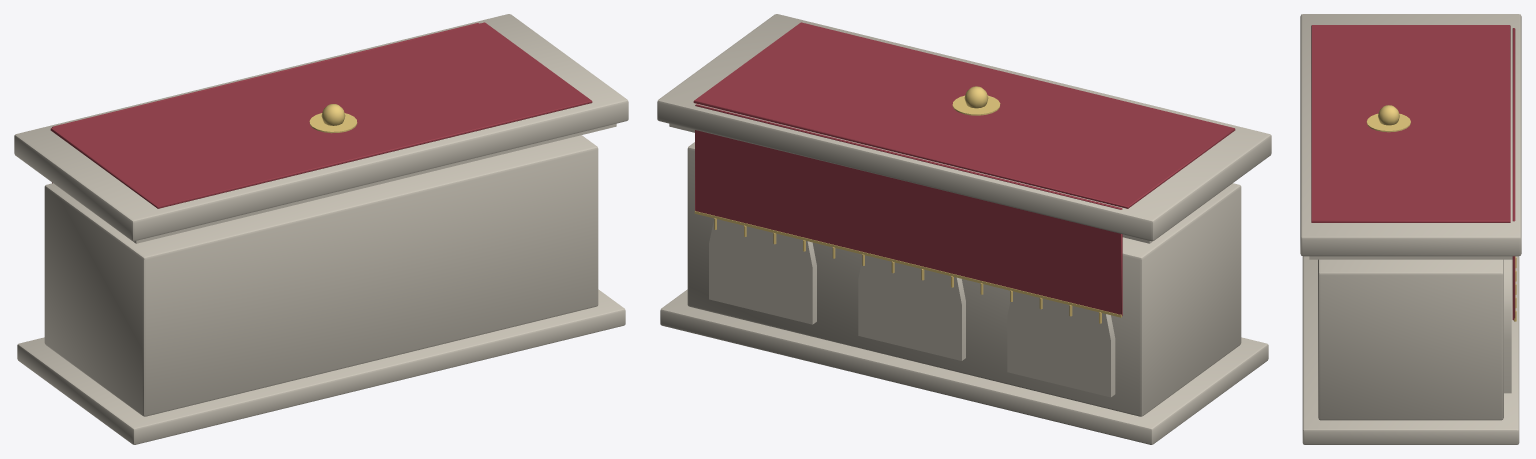
Rendered from chi_altare.fbx.
The picture shows the model from 3 angles, left to right: view 1: azimuth 30°, elevation 25°; view 2: azimuth 150°, elevation 25°; view 3: azimuth 270°, elevation 25°; orthographic projection. The views are drawn at different scales.
Parts seen in each view (by area): view 1: chi_altare_pietra, chi_altare_tessuto, chi_altare_oro; view 2: chi_altare_pietra, chi_altare_tessuto, chi_altare_oro; view 3: chi_altare_pietra, chi_altare_tessuto, chi_altare_oro.
Boxes of the visible parts, x1=… form: chi_altare_pietra: x1=14, y1=14, x2=628, y2=444; chi_altare_tessuto: x1=50, y1=22, x2=592, y2=208; chi_altare_oro: x1=309, y1=104, x2=357, y2=133; chi_altare_pietra: x1=657, y1=14, x2=1271, y2=444; chi_altare_tessuto: x1=693, y1=22, x2=1235, y2=315; chi_altare_oro: x1=694, y1=86, x2=1121, y2=323; chi_altare_pietra: x1=1300, y1=14, x2=1521, y2=444; chi_altare_tessuto: x1=1311, y1=25, x2=1515, y2=320; chi_altare_oro: x1=1366, y1=105, x2=1516, y2=321.
Bounding box in the file's own units: 2.4 × 1.14 × 1.
